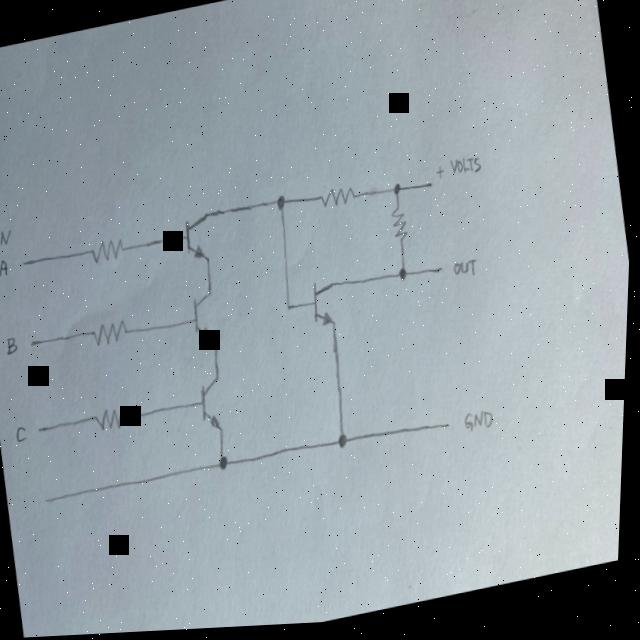junction: (332, 426, 358, 458), (212, 447, 237, 478), (392, 264, 417, 292), (387, 174, 405, 202), (273, 191, 291, 218)
resistor: (314, 178, 360, 218), (93, 400, 136, 438), (90, 316, 133, 353), (87, 232, 131, 268), (387, 205, 415, 252)
terminal: (435, 265, 447, 280), (444, 421, 455, 436), (43, 494, 55, 507), (36, 422, 47, 436), (19, 257, 30, 269), (28, 336, 38, 348), (426, 183, 435, 194)
text: (449, 251, 485, 290), (463, 406, 499, 441), (448, 153, 484, 185), (7, 413, 34, 451), (1, 329, 26, 361), (0, 215, 16, 250), (0, 252, 16, 285), (431, 164, 448, 190)
transistor: (173, 200, 225, 275), (185, 286, 233, 359), (306, 272, 352, 344), (194, 372, 241, 442)
